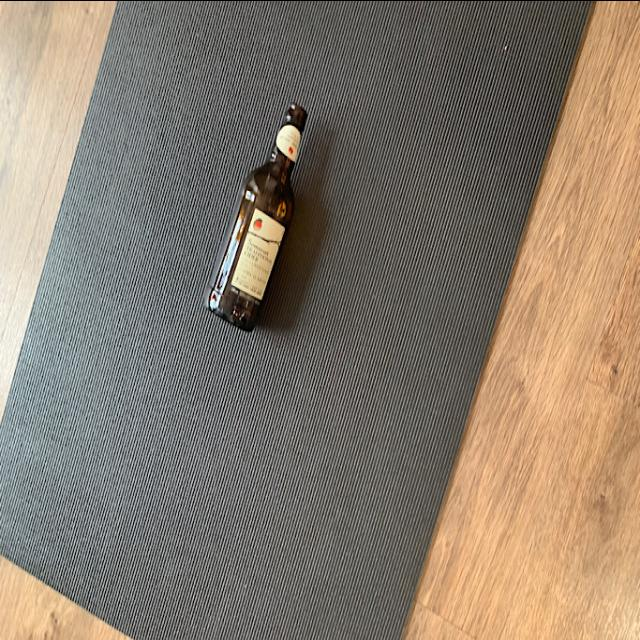litter: (202, 99, 320, 338)
